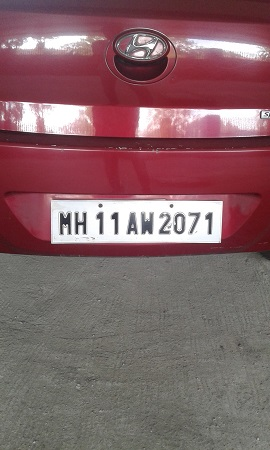licenseplate: (48, 196, 226, 247)
